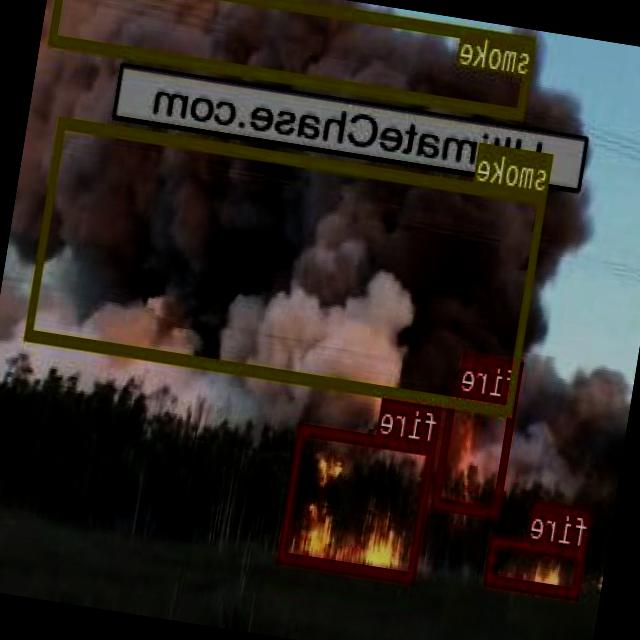fire: (280, 423, 437, 583), (434, 391, 518, 516), (486, 534, 588, 598)
smoke: (25, 115, 548, 415), (50, 0, 537, 118)
